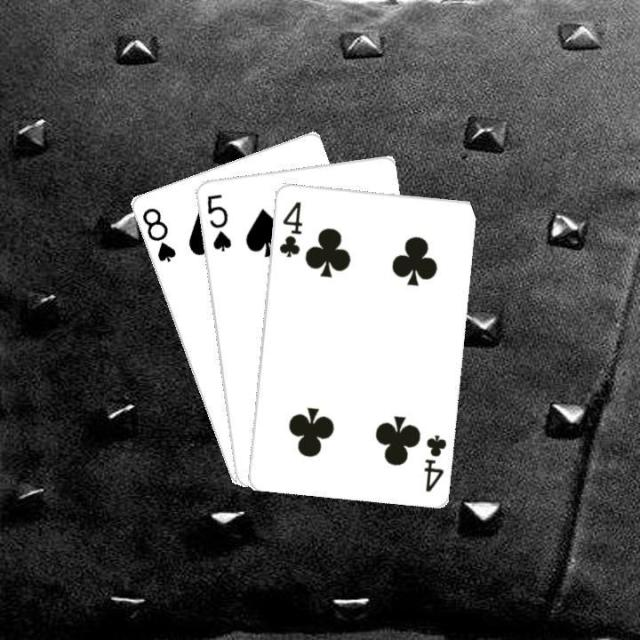4C: (275, 196, 304, 258), (420, 431, 448, 494)
5S: (203, 190, 233, 252)
8S: (138, 204, 178, 264)
